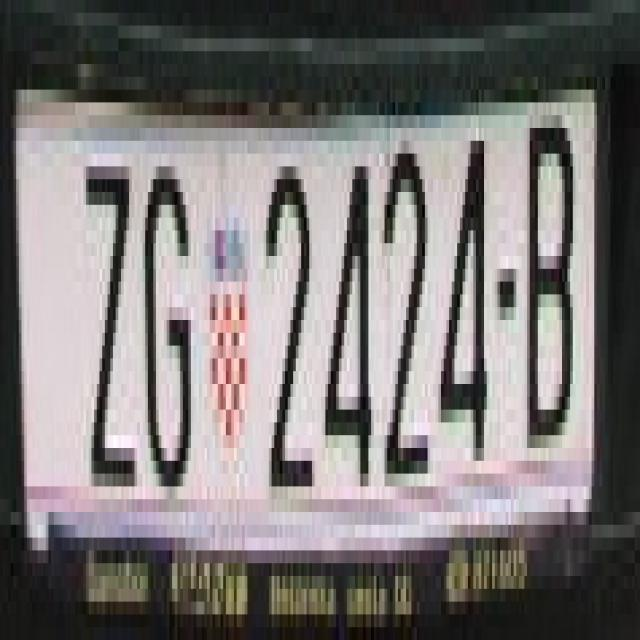2: (258, 154, 315, 486), (382, 128, 433, 499)
4: (436, 128, 494, 486), (322, 153, 373, 512)
B: (518, 115, 576, 461)
G: (145, 154, 191, 486)
Z: (83, 154, 140, 486)
